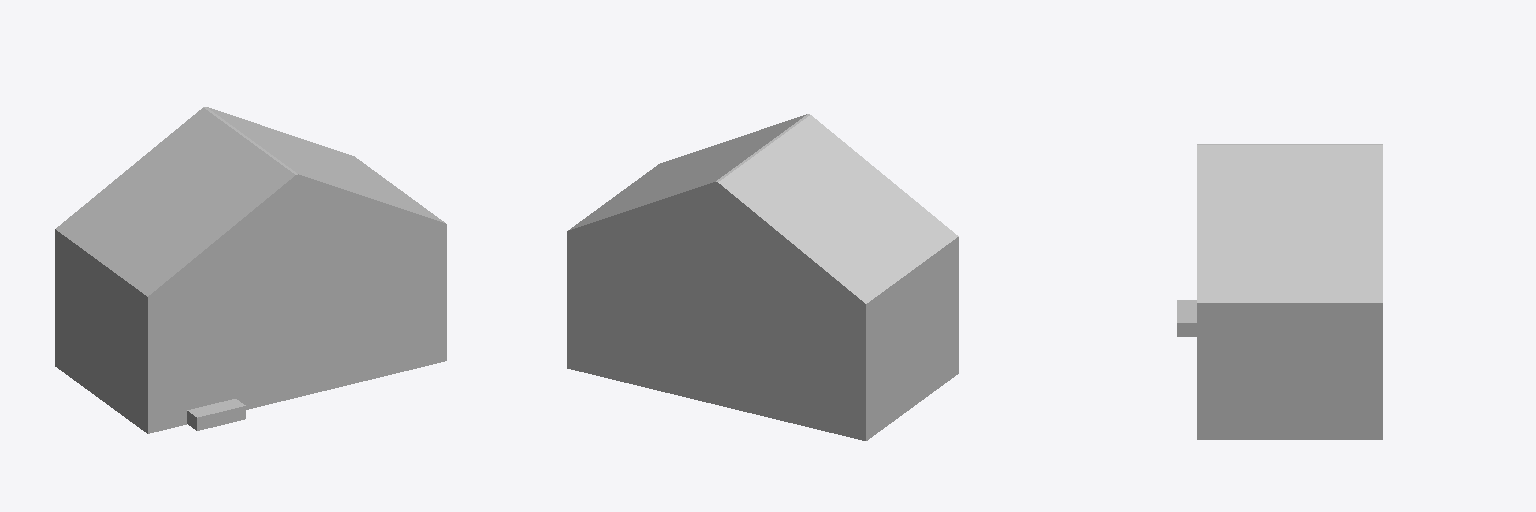
Rendered from House4.obj.
3 views of the same model, side by side, from view 1: azimuth 30°, elevation 25°; view 2: azimuth 150°, elevation 25°; view 3: azimuth 270°, elevation 25° (orthographic).
Visible parts, largest first — view 1: Cube; view 2: Cube; view 3: Cube.
Part boxes in pixels (x1,y1,x2,y2): Cube: (55,107,446,433); Cube: (567,114,958,440); Cube: (1177,144,1382,439).
Size of the model in its own units: 1.1 by 0.7831 by 0.6539.